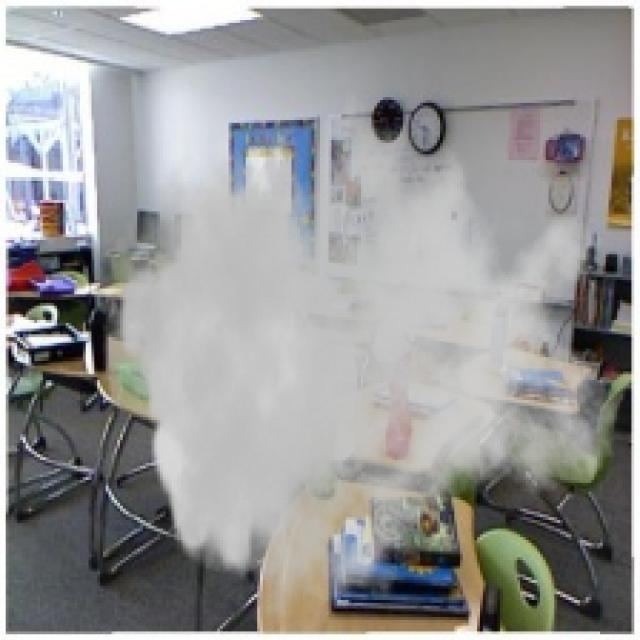Smoke: (100, 62, 620, 628)
